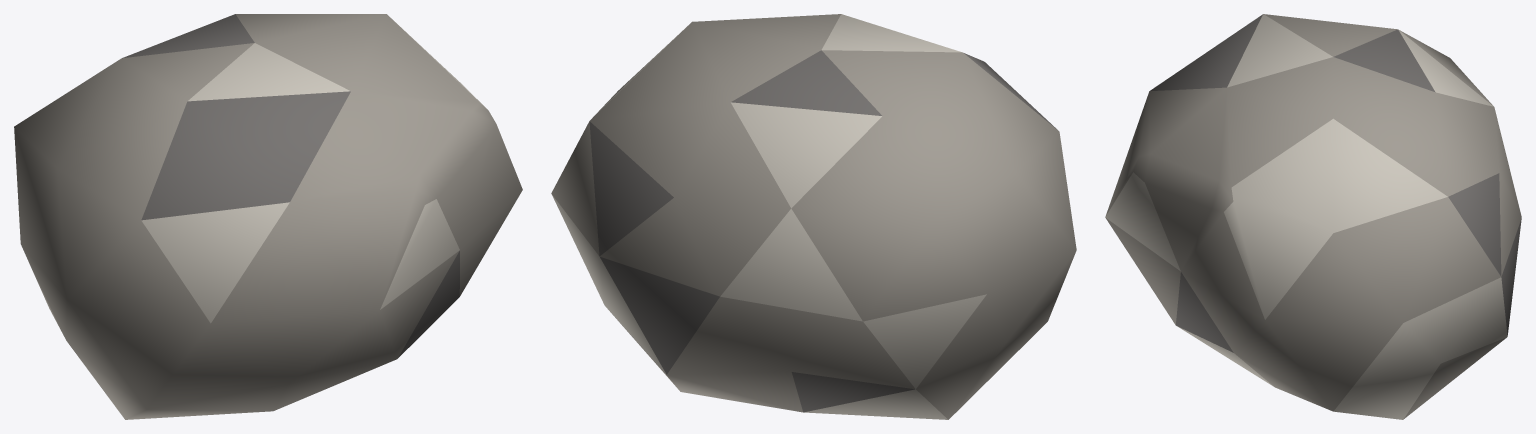
The model's file is G_MedCatapultRock.fbx.
The picture shows the model from 3 angles, left to right: view 1: azimuth 30°, elevation 25°; view 2: azimuth 150°, elevation 25°; view 3: azimuth 270°, elevation 25°; orthographic projection. The views are drawn at different scales.
Parts seen in each view (by area): view 1: M_CatapultRock; view 2: M_CatapultRock; view 3: M_CatapultRock.
Boxes of the visible parts, x1,y1,x2,y2 form: M_CatapultRock: (14, 14, 522, 419); M_CatapultRock: (551, 14, 1076, 419); M_CatapultRock: (1105, 14, 1521, 419).
Bounding box in the file's own units: 0.4416 × 0.3201 × 0.3786.
1 material, 1 textured.
